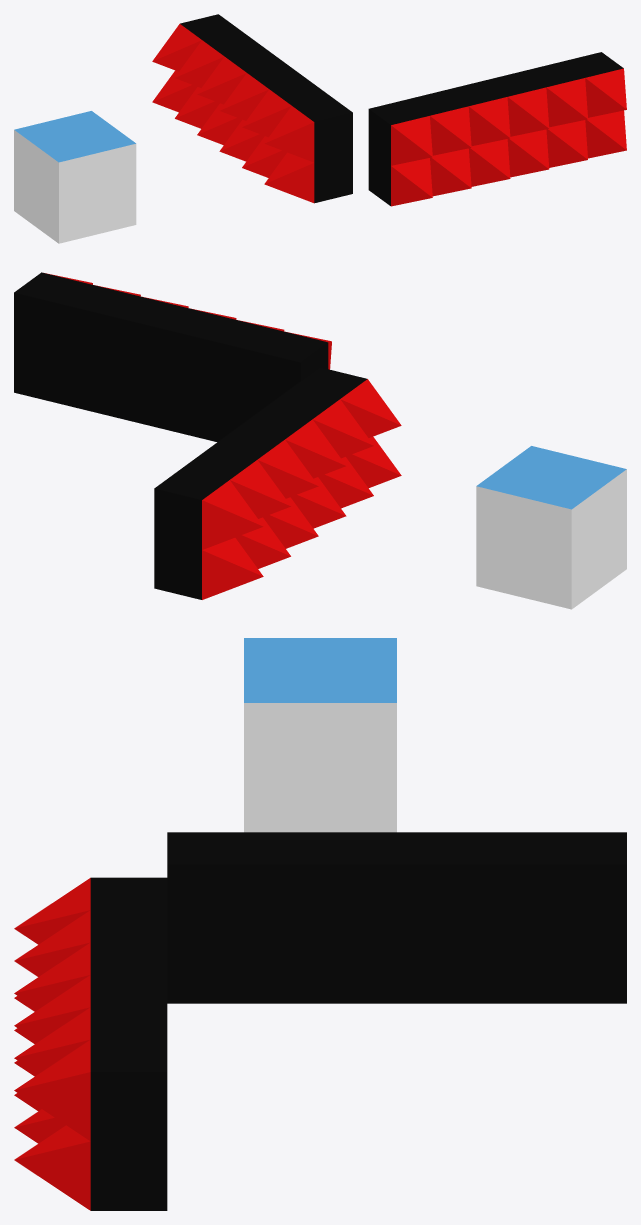
Rendered from engine.gltf.
3 renders of one model, top to bottom at view 1: azimuth 30°, elevation 25°; view 2: azimuth 150°, elevation 25°; view 3: azimuth 270°, elevation 25°, orthographic. The views are drawn at different scales.
Parts seen in each view (by area): view 1: Spikes.001, Spikes, Player, SpikeBase, SpikeBase.001; view 2: SpikeBase.001, Spikes, Player, SpikeBase, Spikes.001; view 3: SpikeBase, Player, SpikeBase.001, Spikes.001.
Boxes of the visible parts, left/top/right/bottom form: Spikes.001: left=391, top=68, right=626, bottom=206; Spikes: left=152, top=24, right=314, bottom=202; Player: left=14, top=111, right=136, bottom=243; SpikeBase: left=180, top=14, right=352, bottom=203; SpikeBase.001: left=368, top=52, right=623, bottom=205; SpikeBase.001: left=14, top=272, right=328, bottom=442; Spikes: left=202, top=379, right=401, bottom=599; Player: left=476, top=446, right=626, bottom=609; SpikeBase: left=154, top=367, right=366, bottom=599; Spikes.001: left=46, top=273, right=331, bottom=369; SpikeBase: left=167, top=832, right=626, bottom=1003; Player: left=244, top=638, right=396, bottom=832; SpikeBase.001: left=90, top=877, right=167, bottom=1210; Spikes.001: left=14, top=878, right=90, bottom=1210.
Size of what is drawn, in the model's own units: 13.4 by 2 by 8.
